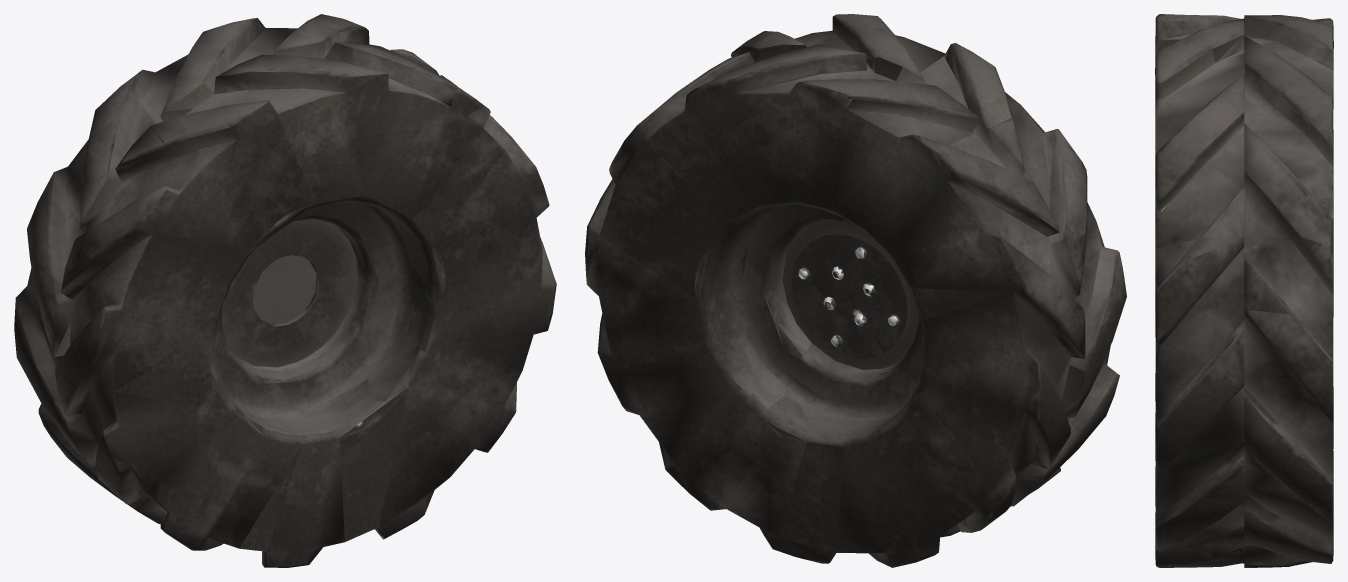
The model's file is wheel.dae.
3 renders of one model, left to right at view 1: azimuth 30°, elevation 25°; view 2: azimuth 150°, elevation 25°; view 3: azimuth 270°, elevation 25°, orthographic. The views are drawn at different scales.
Parts seen in each view (by area): view 1: tyre; view 2: tyre; view 3: tyre.
Part boxes in pixels (x1,y1,x2,y2): tyre: (14, 14, 556, 567); tyre: (585, 14, 1126, 567); tyre: (1155, 14, 1333, 567).
Bounding box in the file's own units: 0.3668 × 0.1184 × 0.3669.
1 material, 1 textured.
